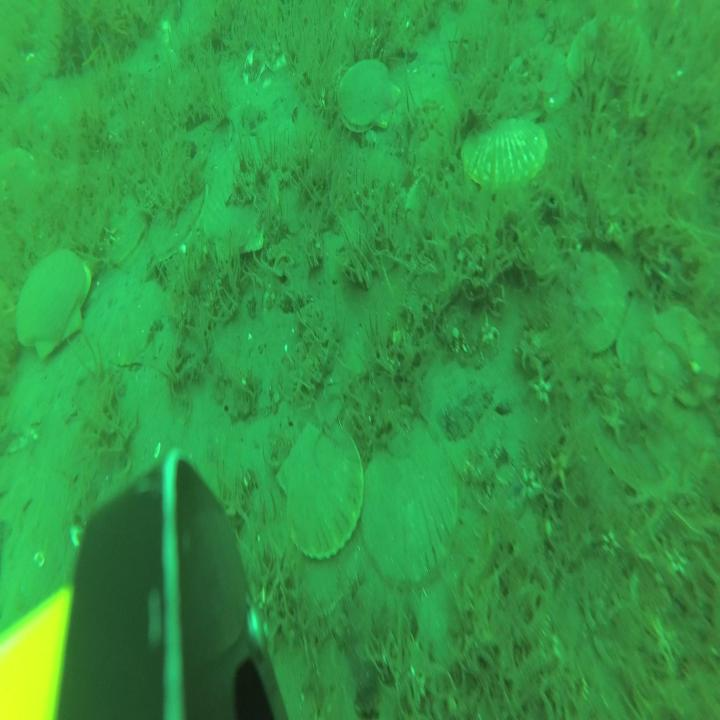scallop: (365, 425, 459, 581), (278, 419, 361, 557), (15, 248, 92, 358), (202, 160, 276, 261), (460, 112, 548, 190), (567, 13, 651, 90), (570, 250, 622, 356), (336, 58, 401, 131)
